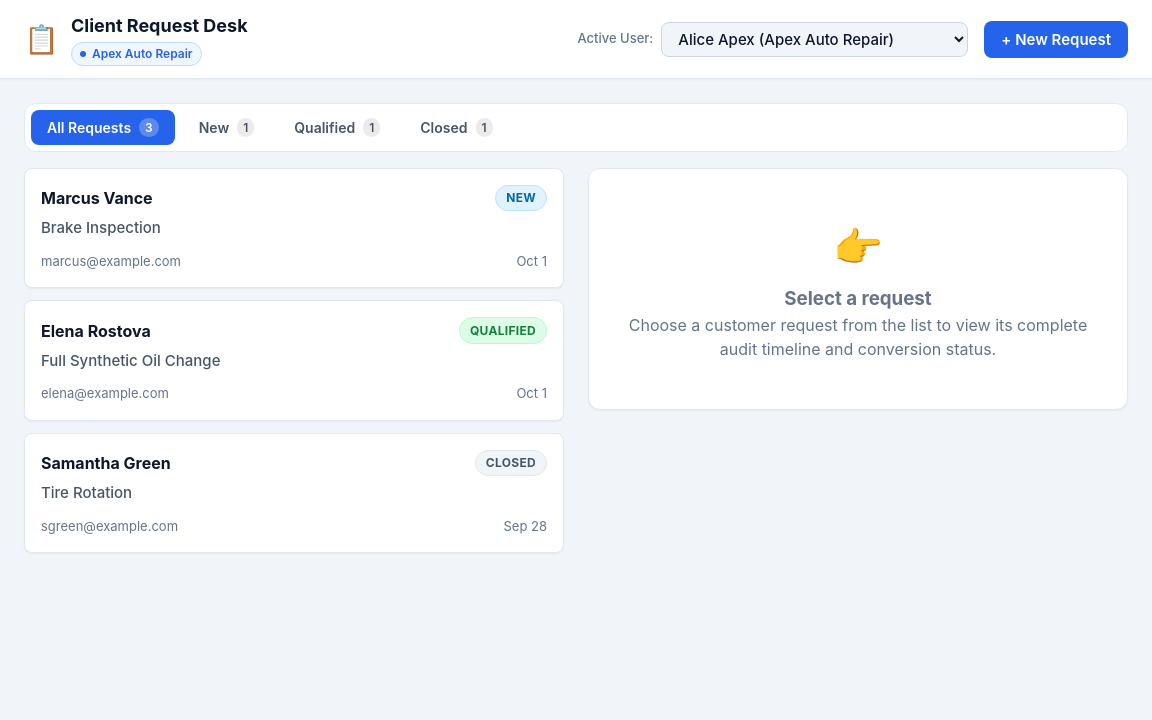
Test: Client Request Desk Frontend Application › filters requests when clicking status tabs (ALL, NEW, QUALIFIED, CLOSED)
Expected: the text "Marcus Vance" is shown, [41,186,153,210]
Note: Click 'New' tab
Click the button with test id "filter-new" at (226, 128), box [183,110,270,145]
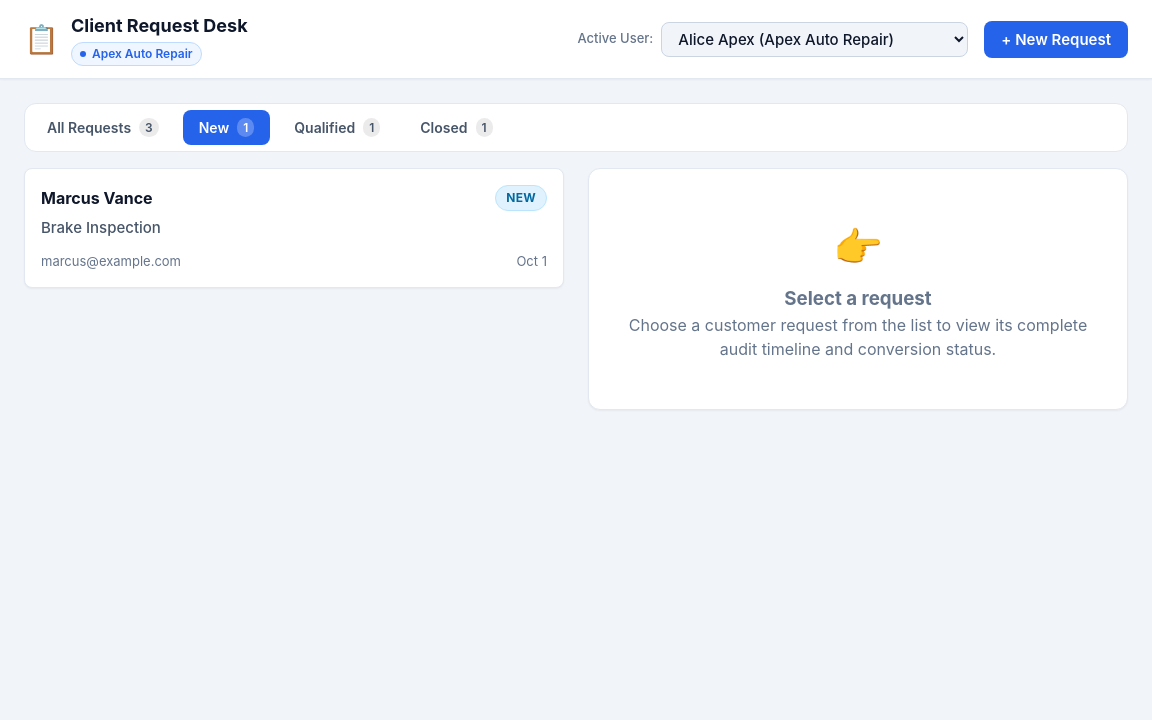
Expected: the text "Marcus Vance" is shown, [41,186,153,210]
Expected: the button "Elena Rostova" is gone
Expected: the button "Samantha Green" is gone
Note: Click 'Qualified' tab
Click the button with test id "filter-qualified" at (337, 128), box [278,110,396,145]
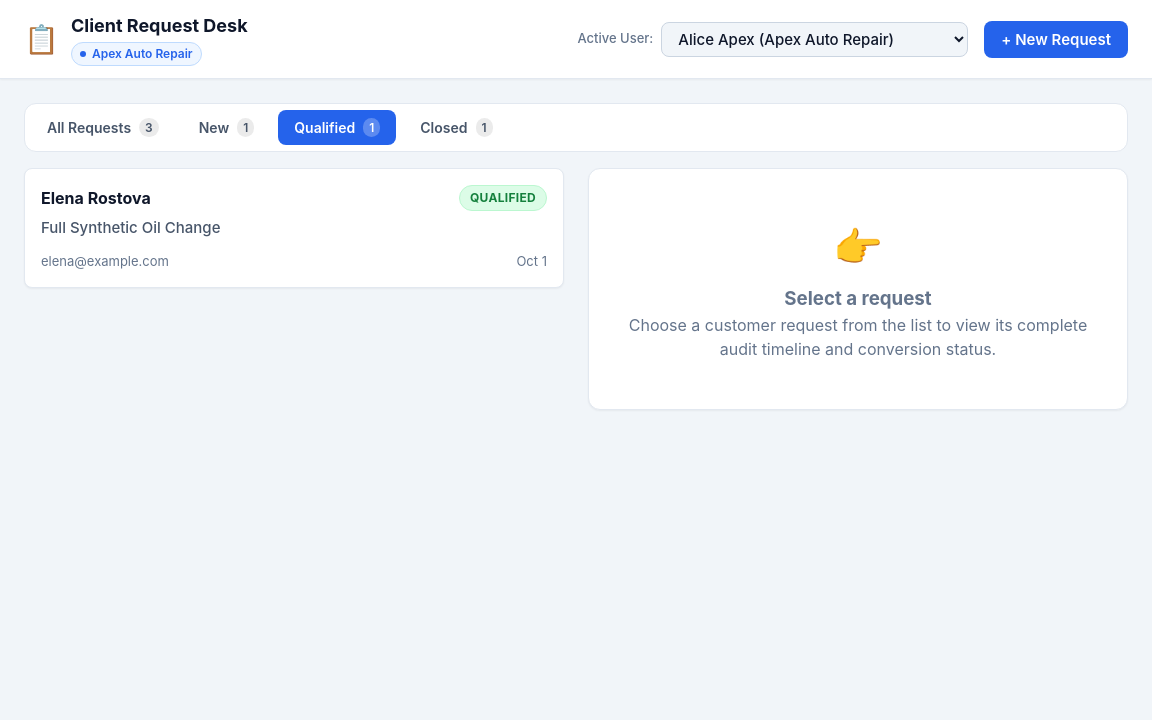
Expected: the text "Elena Rostova" is shown, [41,186,151,210]
Expected: the button "Marcus Vance" is gone
Note: Click 'Closed' tab
Click the button with test id "filter-closed" at (456, 128), box [404,110,509,145]
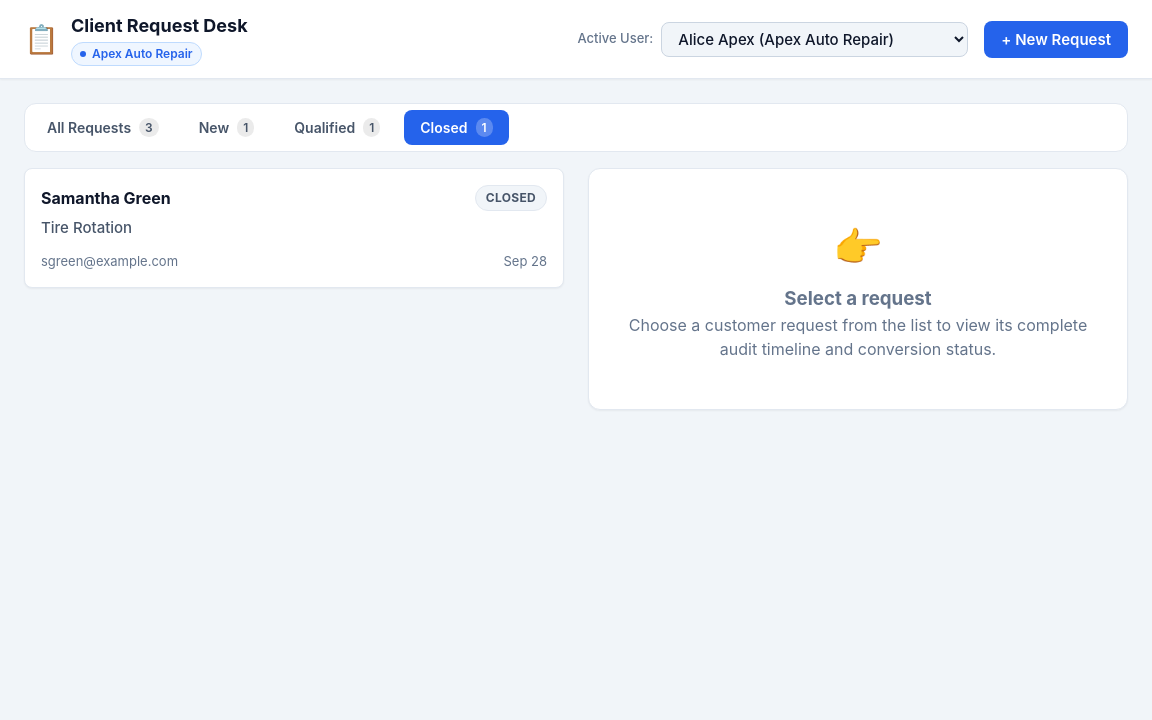
Expected: the text "Samantha Green" is shown, [41,186,171,210]
Expected: the button "Elena Rostova" is gone
Note: Return to 'All'
Click the button with test id "filter-all" at (103, 128), box [31,110,175,145]
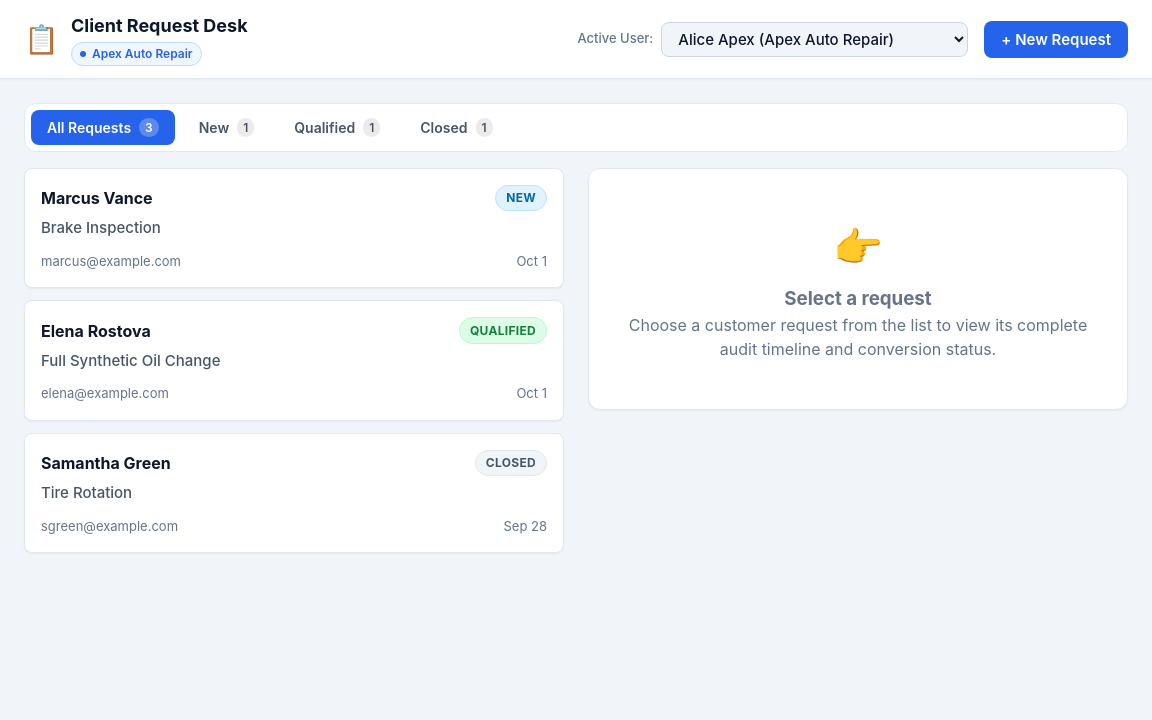
Expected: the text "Marcus Vance" is shown, [41,186,153,210]
Expected: the text "Elena Rostova" is shown, [41,319,151,343]
